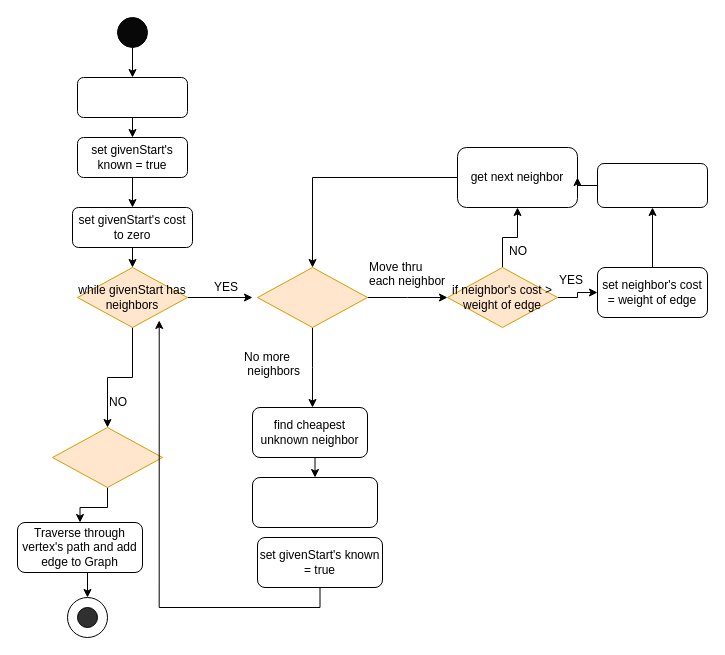
Image size: 725x655. Some labels were removed from this diagram. Here are the shapes that lost their labels. From the top down, the centre of each, then its label:
(x=132, y=97): take a givenStart point
(x=652, y=185): mark givenStart as path to neighbor
(x=312, y=297): loop thru givenStart's neighbor
(x=107, y=457): end loop
(x=315, y=502): set givenStart = cheapest unknwon neighbor
